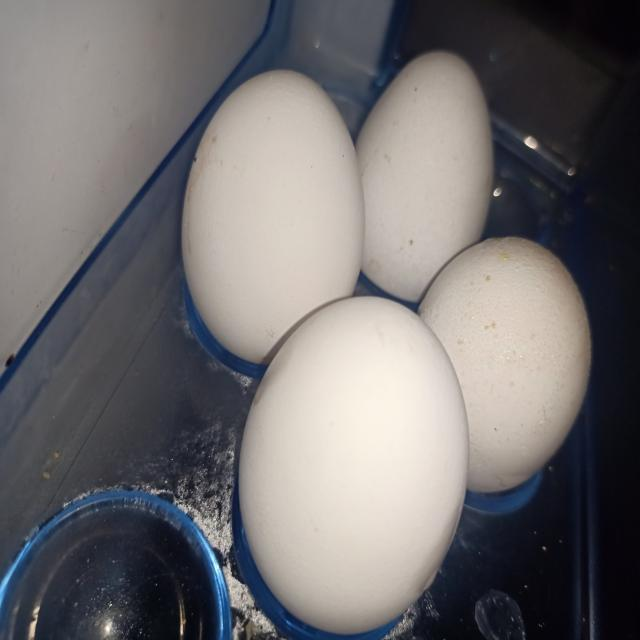Egg: (239, 297, 470, 635), (182, 69, 365, 364), (419, 237, 592, 493), (356, 50, 494, 301)
